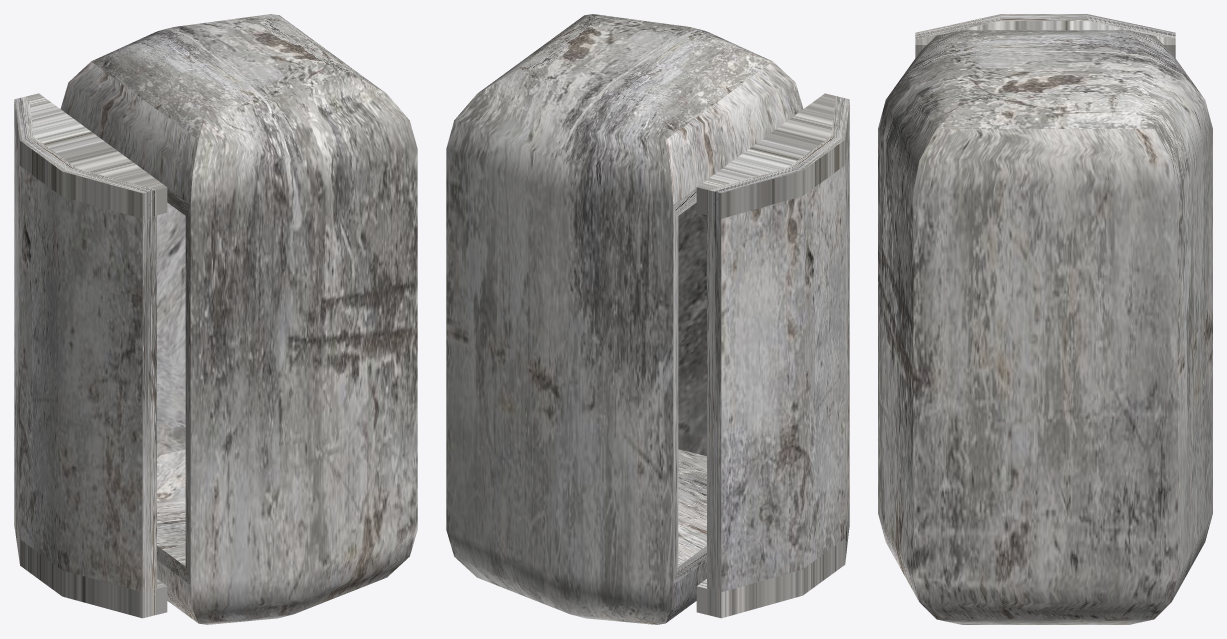
3 views of the same model, side by side, from view 1: azimuth 30°, elevation 25°; view 2: azimuth 150°, elevation 25°; view 3: azimuth 270°, elevation 25° (orthographic).
Visible parts, largest first — view 1: capsule, pCube12; view 2: capsule, pCube12; view 3: capsule, pCube12.
Boxes of the visible parts, box(x1,y1,x2,y2) form: capsule: box(60, 14, 417, 624); pCube12: box(14, 93, 167, 618); capsule: box(446, 14, 803, 624); pCube12: box(696, 93, 849, 618); capsule: box(878, 30, 1212, 624); pCube12: box(915, 14, 1175, 57).
Bounding box in the file's own units: 3.98 × 6.42 × 3.65.
Materials: 1 (1 with a texture image).
